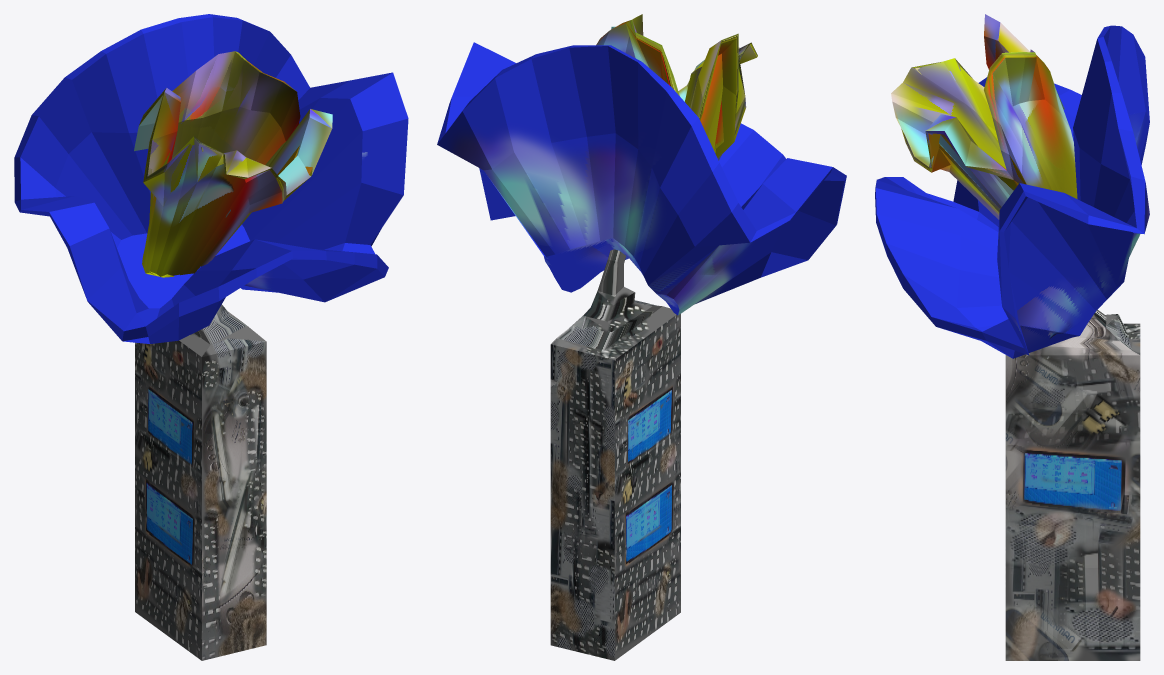
The model's file is audio-flower.glb.
The picture shows the model from 3 angles, left to right: view 1: azimuth 30°, elevation 25°; view 2: azimuth 150°, elevation 25°; view 3: azimuth 270°, elevation 25°; orthographic projection.
Visible parts, largest first — view 1: Cylinder.003, Cube, Cylinder.002; view 2: Cylinder.003, Cube, Cylinder.002; view 3: Cylinder.003, Cube, Cylinder.002.
Boxes of the visible parts, x1,y1,x2,y2 form: Cylinder.003: (14,14,408,343); Cube: (135,304,266,660); Cylinder.002: (134,51,332,277); Cylinder.003: (437,42,846,315); Cube: (550,249,680,660); Cylinder.002: (596,14,757,160); Cylinder.003: (875,25,1149,358); Cube: (1005,309,1140,660); Cylinder.002: (891,14,1077,219).
Bounding box in the file's own units: 13.76 × 22.16 × 9.13.
3 materials, 3 textured.
